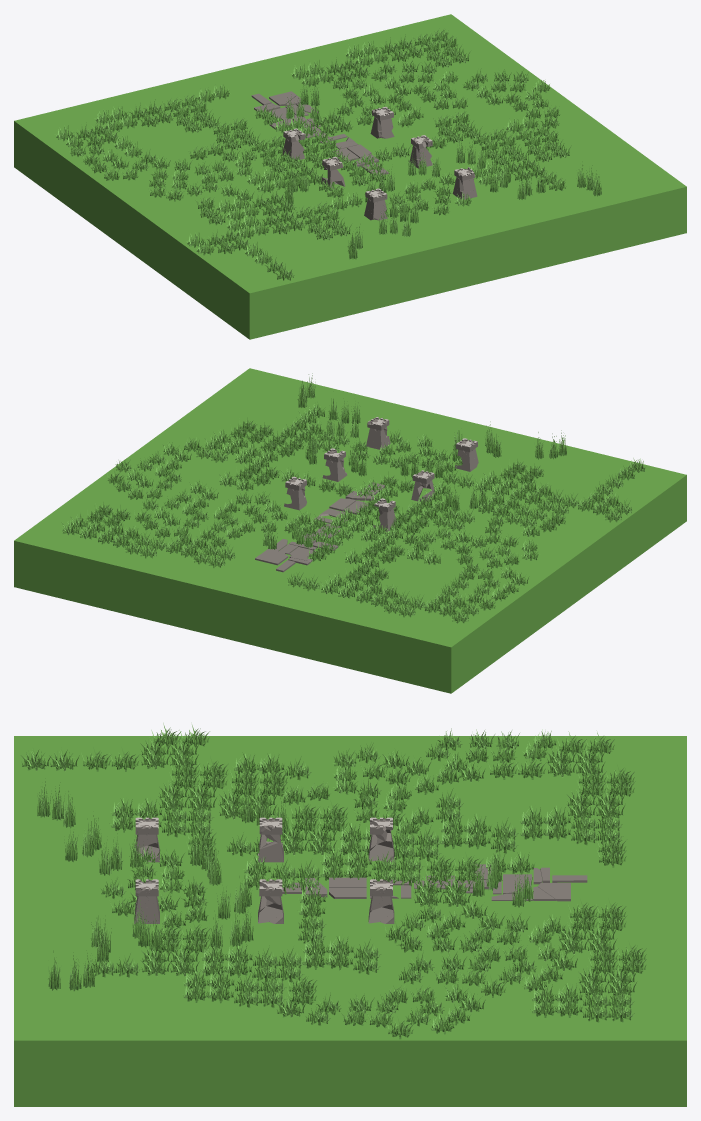
The model's file is FLOOR.fbx.
3 renders of one model, top to bottom at view 1: azimuth 30°, elevation 25°; view 2: azimuth 150°, elevation 25°; view 3: azimuth 270°, elevation 25°, orthographic. The views are drawn at different scales.
Parts seen in each view (by area): view 1: Cube.272_cell.034; view 2: Cube.272_cell.034; view 3: Cube.272_cell.034.
Part boxes in pixels (x1=…): Cube.272_cell.034: x1=14, y1=14, x2=686, y2=339; Cube.272_cell.034: x1=14, y1=368, x2=686, y2=693; Cube.272_cell.034: x1=14, y1=723, x2=686, y2=1106.
Bounding box in the file's own units: 13249 × 2131 × 12372.
